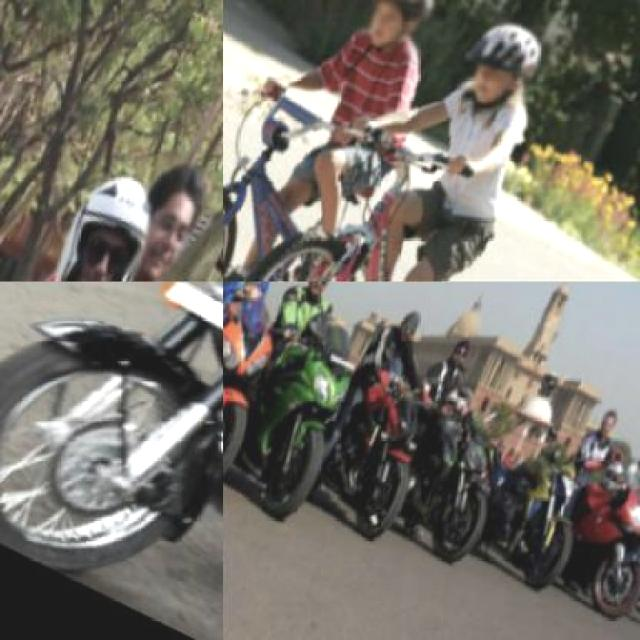With Helmet: (22, 155, 178, 280), (442, 3, 558, 123), (337, 0, 455, 68)
Without Helmet: (100, 146, 222, 280), (439, 329, 475, 374), (390, 303, 424, 343), (587, 402, 619, 440), (300, 281, 335, 297), (632, 440, 638, 474)
